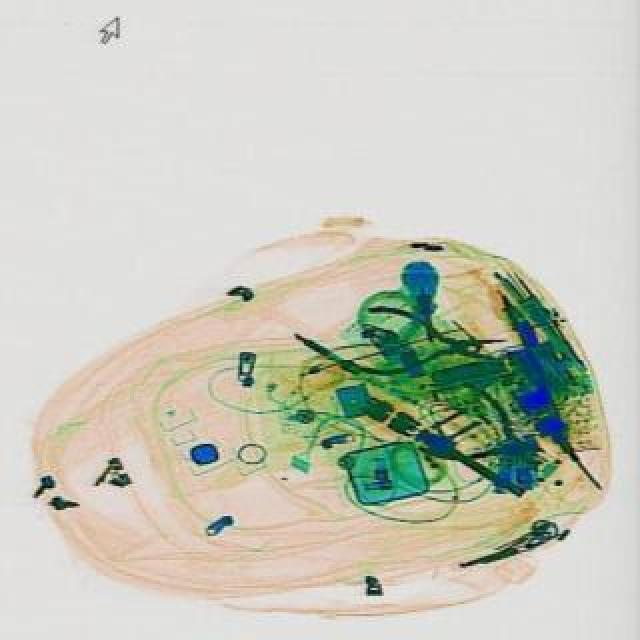wrench: (420, 372, 564, 494), (360, 306, 512, 382)
